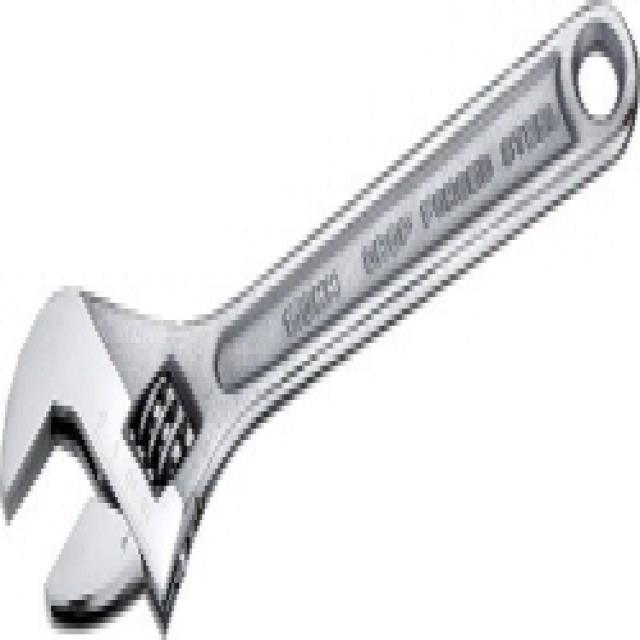wrench: (0, 51, 632, 639)
